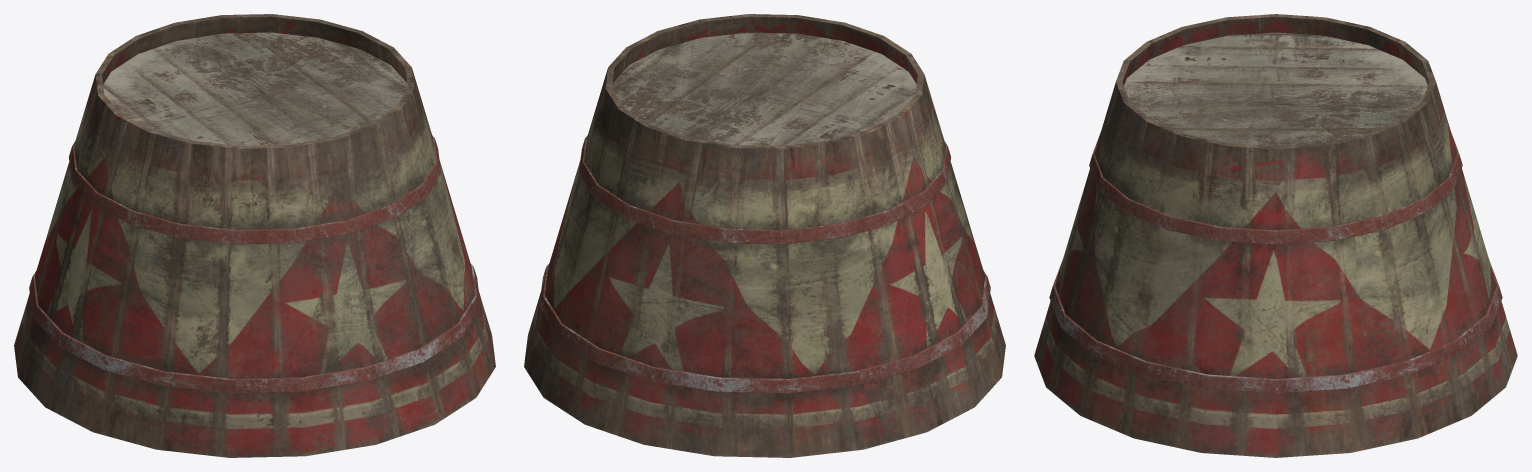
The model's file is SM_Pedestal_B.fbx.
3 views of the same model, side by side, from view 1: azimuth 30°, elevation 25°; view 2: azimuth 150°, elevation 25°; view 3: azimuth 270°, elevation 25° (orthographic).
Parts seen in each view (by area): view 1: SM_Pedestal_B_LOD0; view 2: SM_Pedestal_B_LOD0; view 3: SM_Pedestal_B_LOD0.
Part boxes in pixels (box(x1,y1,x2,y2)): SM_Pedestal_B_LOD0: box(14, 14, 495, 457); SM_Pedestal_B_LOD0: box(524, 14, 1005, 457); SM_Pedestal_B_LOD0: box(1034, 14, 1517, 457).
Bounding box in the file's own units: 148 × 148 × 92.48.
1 material, 1 textured.
